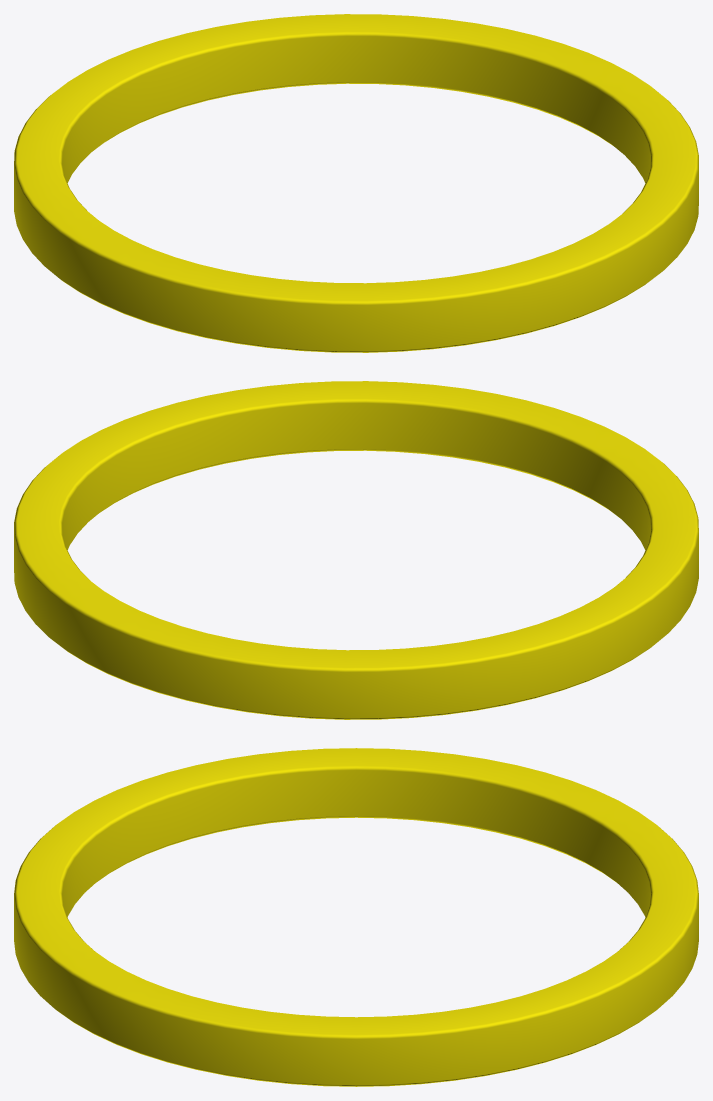
3 renders of one model, top to bottom at view 1: azimuth 30°, elevation 25°; view 2: azimuth 150°, elevation 25°; view 3: azimuth 270°, elevation 25°, orthographic.
Visible parts, largest first — view 1: seal_body; view 2: seal_body; view 3: seal_body.
Boxes of the visible parts, x1=… form: seal_body: x1=14, y1=14, x2=698, y2=352; seal_body: x1=14, y1=381, x2=698, y2=719; seal_body: x1=14, y1=748, x2=698, y2=1086.
Size of the model in its own units: 0.0524 by 0.0044 by 0.0524.
